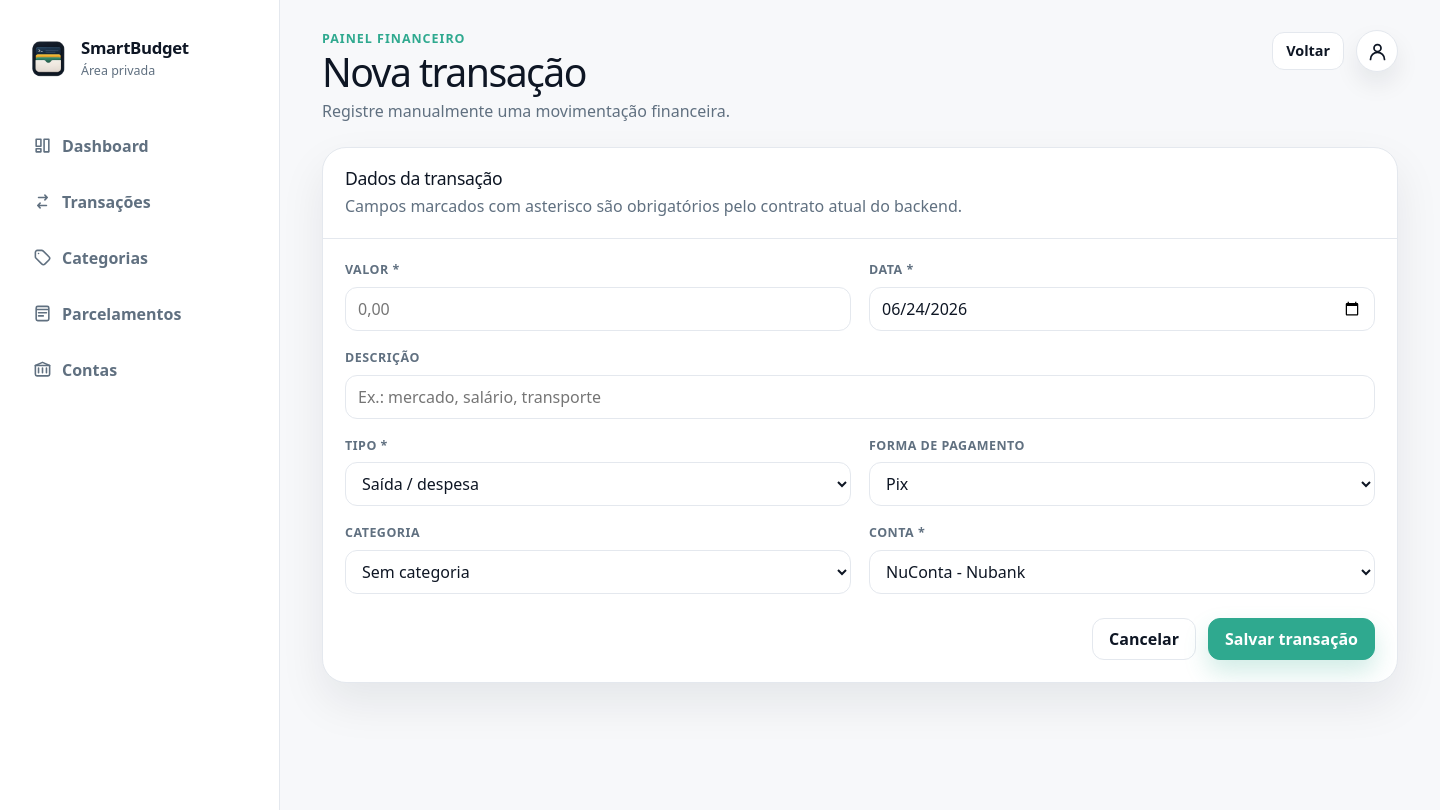
Página NovaTransacao › deve desabilitar o campo Conta se a forma de pagamento selecionada for DINHEIRO
expect the number field labelled "Valor *" is shown: met, box [345,287,851,331]
Select "Dinheiro" in the dropdown labelled "Forma de pagamento" at (1122, 484), box [869,462,1375,506]
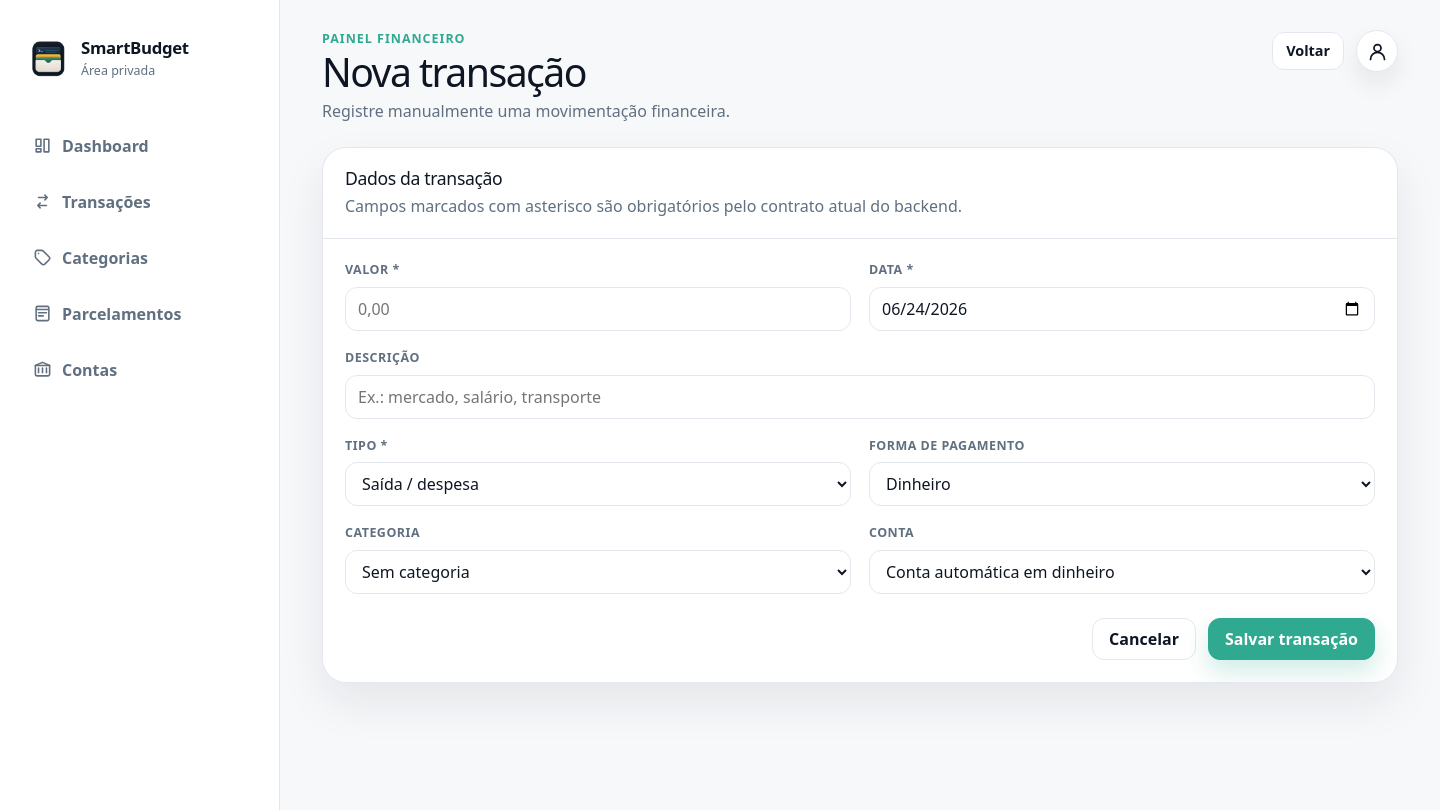
expect the dropdown labelled "Conta" is disabled: met, box [869,550,1375,594]
